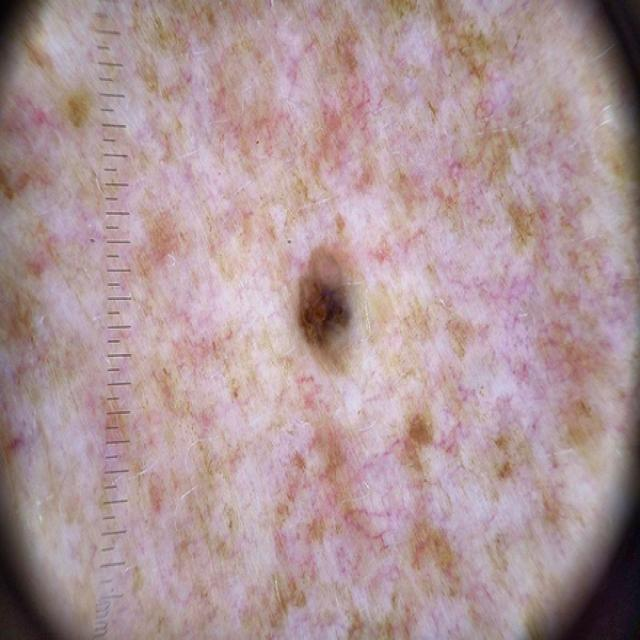Benign-Keratosis-like-Lesions-BKL-: (41, 39, 599, 619)
